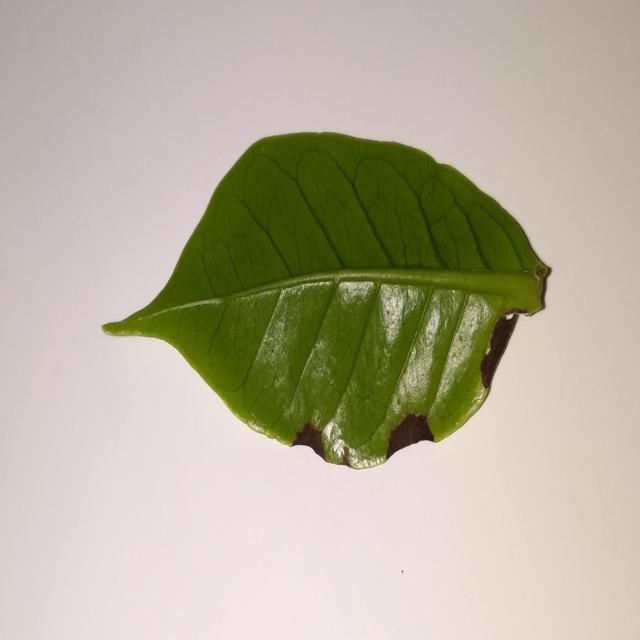phoma: (480, 311, 520, 398), (386, 413, 434, 459), (292, 422, 331, 463)
